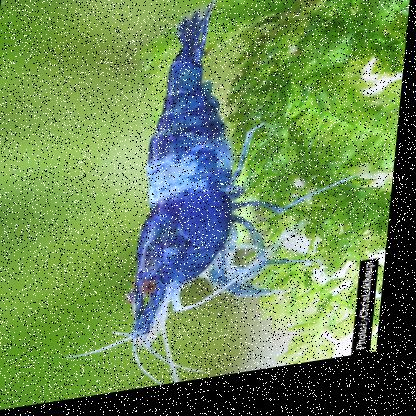shrimp: (127, 0, 327, 362)
